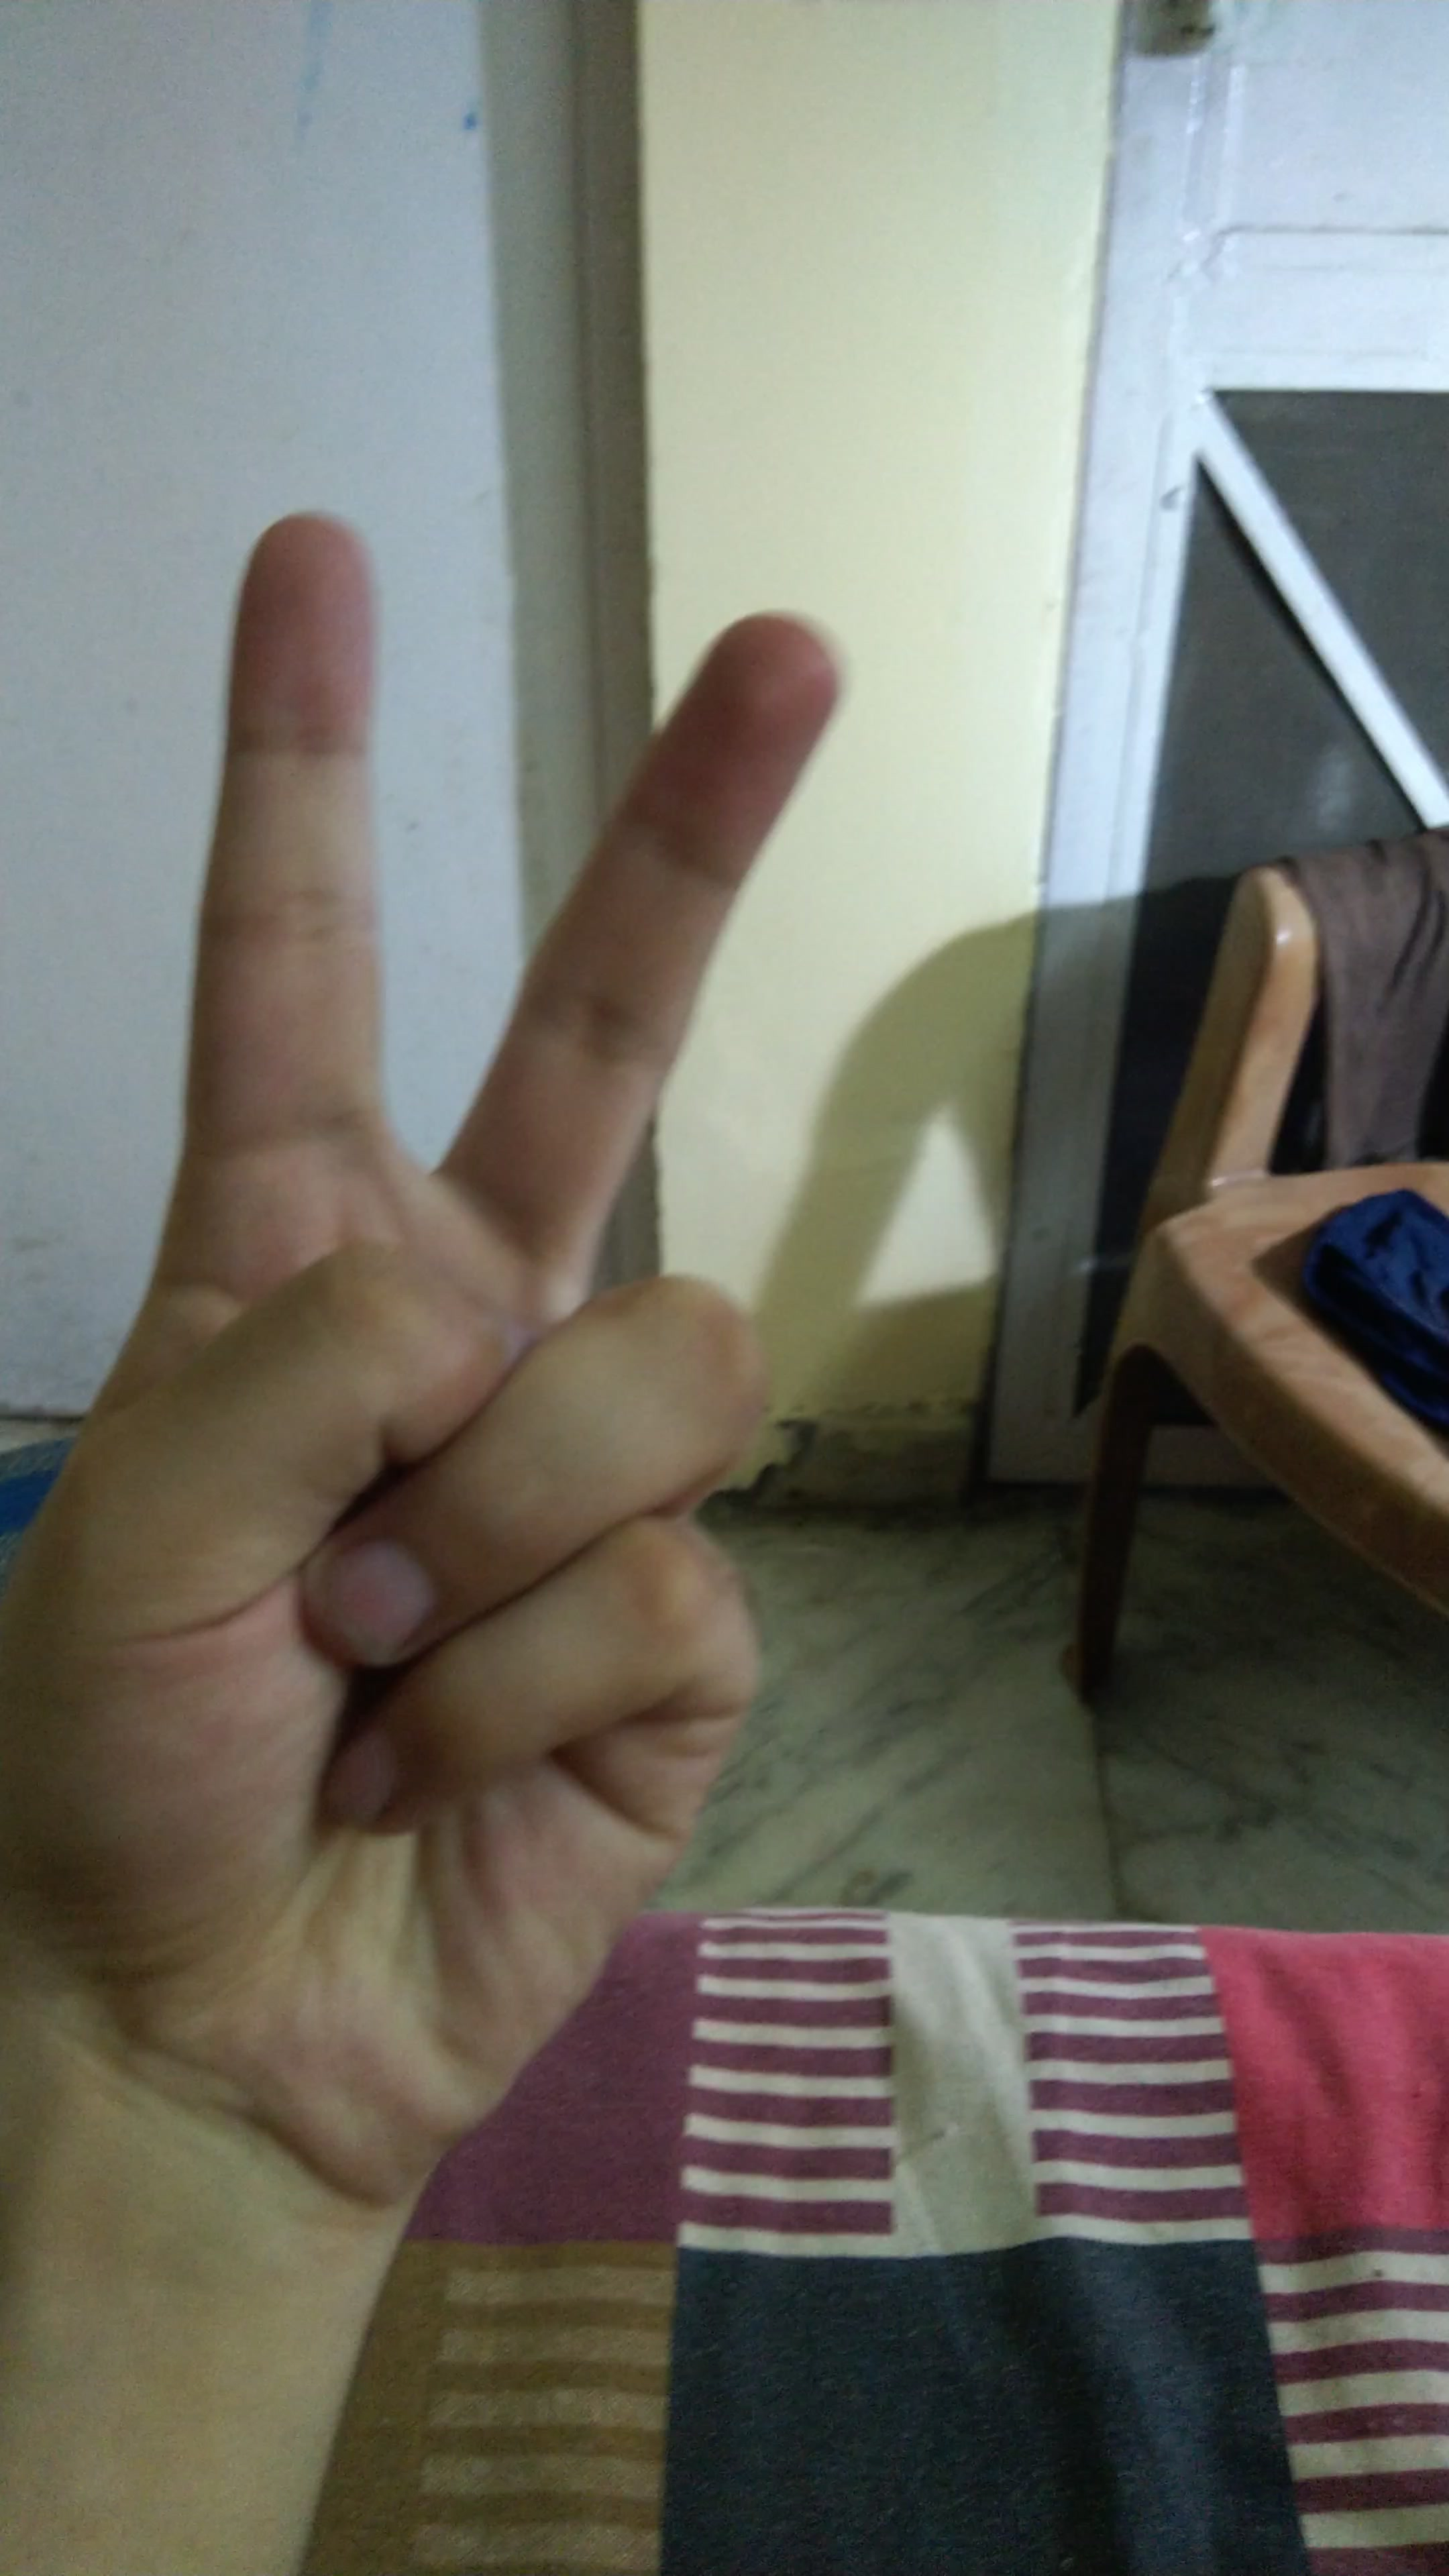hand: (32, 455, 943, 2222)
